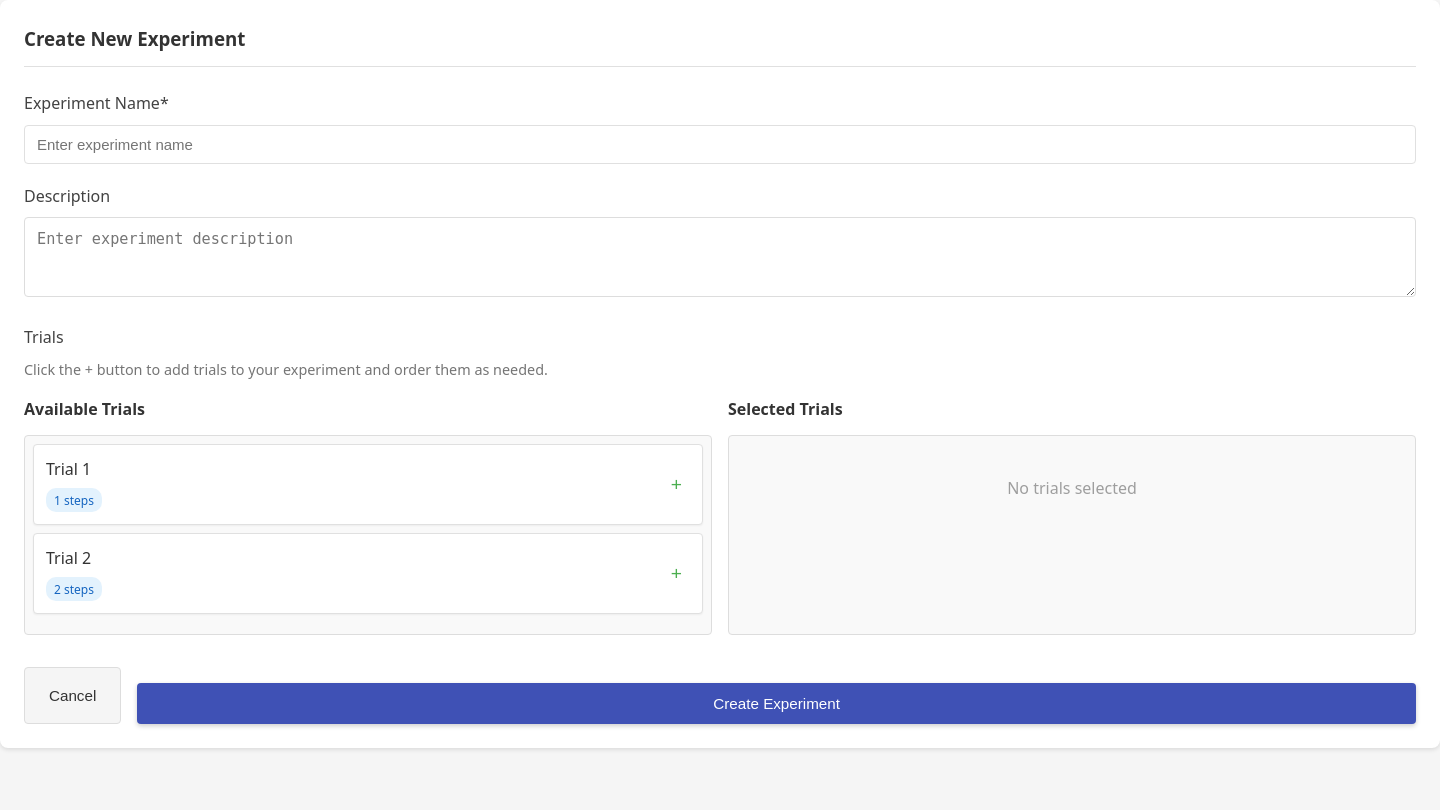
it: ExperimentForm Component › Trial Management › adds trial to selected list
Expected: the text "Trial 1" is shown, [46,458,91,480]
Expected: the text "No trials selected" is shown, [1007,477,1137,499]
// Add trial
Click the button "+" in the row of "Trial 1".
click(676, 484)  # box [663,474,690,496]
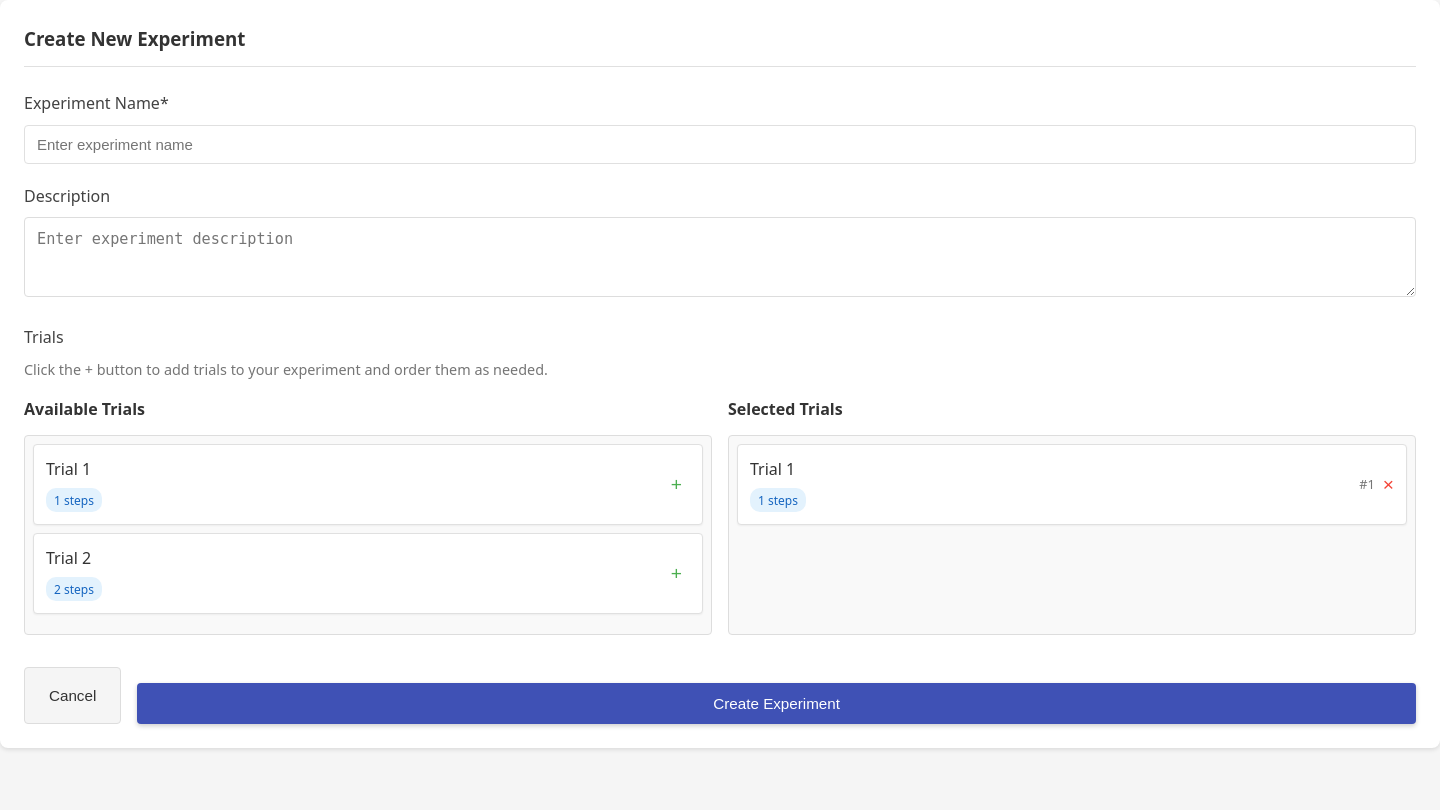
Expected: the text "No trials selected" is gone
Expected: the text "#1" is shown, [1359,474,1375,495]
